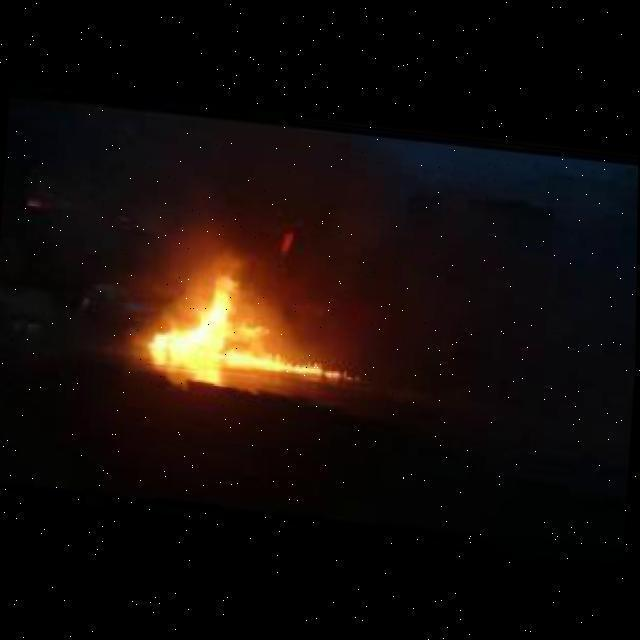fire: (114, 247, 362, 394)
